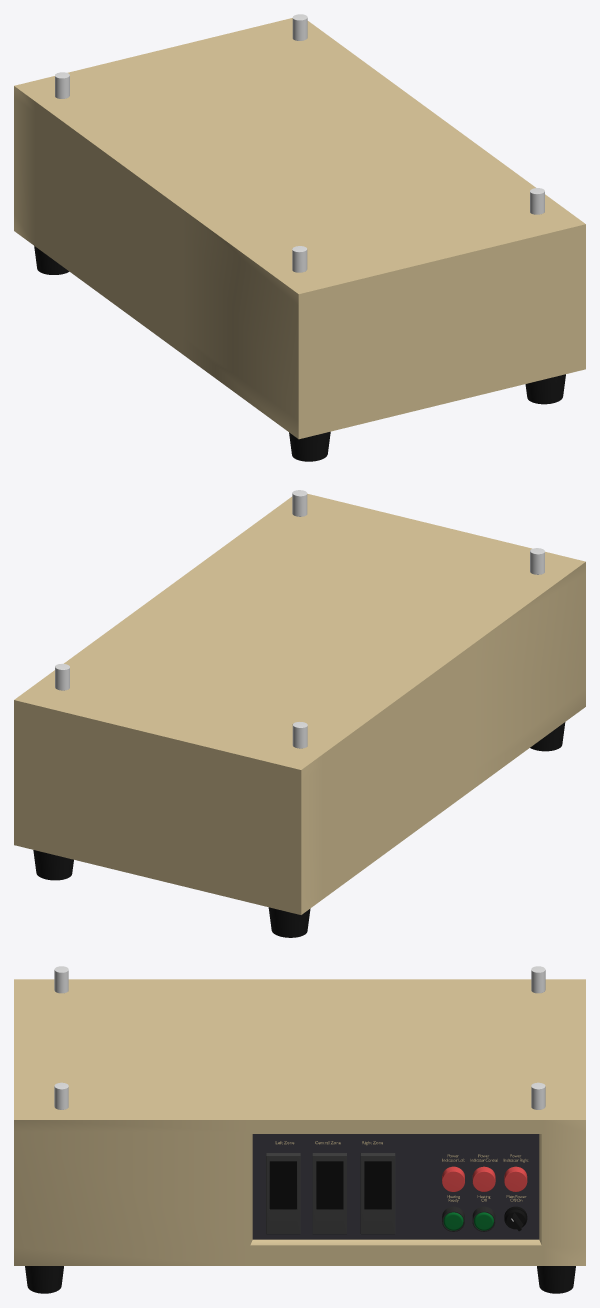
The picture shows the model from 3 angles, top to bottom: view 1: azimuth 30°, elevation 25°; view 2: azimuth 150°, elevation 25°; view 3: azimuth 270°, elevation 25°; orthographic projection.
Parts seen in each view (by area): view 1: Frame, Bush, Holders; view 2: Frame, Bush, Holders; view 3: Frame, Bush, Screen_Frame_Z3, Screen_Frame_Z2, Screen_Frame_Z1, Holders, Screen_Z2, Screen_Z3, Screen_Z1, Power_Indicator_Right, Power_Indicator_Central, Power_Indicator_Left (+1 smaller).
Boxes of the visible parts, x1,y1,x2,y2 form: Frame: (14,18,585,439); Bush: (34,246,565,461); Holders: (55,14,544,272); Frame: (14,493,585,914); Bush: (33,722,565,937); Holders: (55,490,544,748); Frame: (14,979,585,1265); Bush: (25,1266,575,1293); Screen_Frame_Z3: (360,1153,395,1234); Screen_Frame_Z2: (312,1153,346,1234); Screen_Frame_Z1: (266,1153,300,1234); Holders: (54,966,545,1109); Screen_Z2: (316,1161,343,1209); Screen_Z3: (364,1161,391,1209); Screen_Z1: (269,1161,296,1209); Power_Indicator_Right: (504,1166,527,1191); Power_Indicator_Central: (472,1166,495,1191); Power_Indicator_Left: (442,1166,464,1191).
Size of the model in its own units: 44.57 by 28.89 by 74.7.
